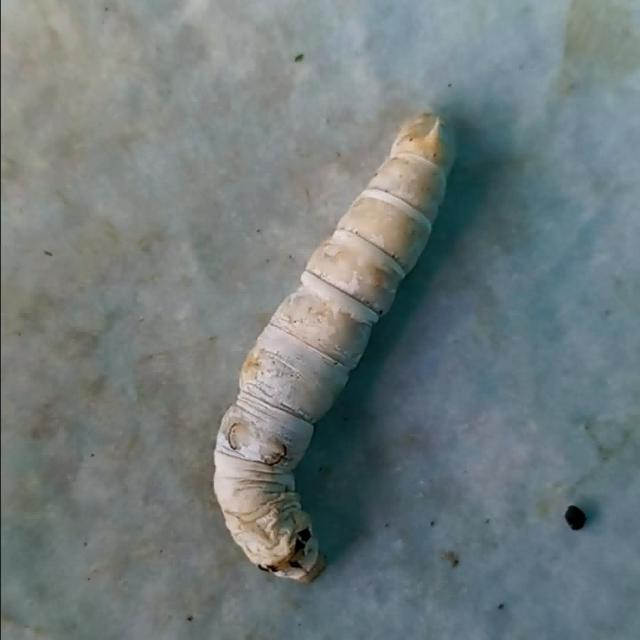Grasserie: (193, 89, 465, 631)
